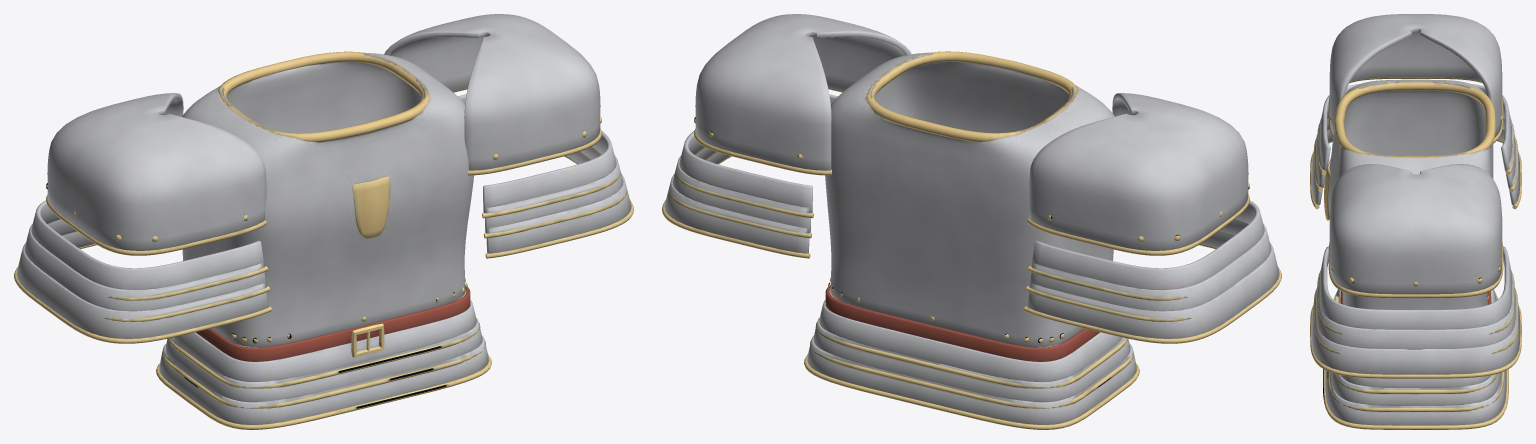
The model's file is knight_chest.fbx.
3 views of the same model, side by side, from view 1: azimuth 30°, elevation 25°; view 2: azimuth 150°, elevation 25°; view 3: azimuth 270°, elevation 25° (orthographic). The views are drawn at different scales.
Parts seen in each view (by area): view 1: UpperTorso, RightUpperArm, LeftUpperArm, LowerTorso; view 2: UpperTorso, RightUpperArm, LeftUpperArm, LowerTorso; view 3: LeftUpperArm, UpperTorso, RightUpperArm, LowerTorso.
Boxes of the visible parts, left/top/right/bottom form: UpperTorso: left=182, top=51, right=473, bottom=347; RightUpperArm: left=14, top=93, right=272, bottom=343; LeftUpperArm: left=384, top=14, right=633, bottom=258; LowerTorso: left=156, top=285, right=491, bottom=429; UpperTorso: left=825, top=51, right=1114, bottom=347; RightUpperArm: left=1023, top=93, right=1281, bottom=343; LeftUpperArm: left=662, top=14, right=912, bottom=258; LowerTorso: left=804, top=285, right=1139, bottom=429; LeftUpperArm: left=1310, top=164, right=1521, bottom=378; UpperTorso: left=1324, top=79, right=1496, bottom=309; RightUpperArm: left=1310, top=14, right=1521, bottom=209; LowerTorso: left=1323, top=289, right=1508, bottom=429.
Bounding box in the file's own units: 5.23 × 2.68 × 1.92.
1 material, 1 textured.
